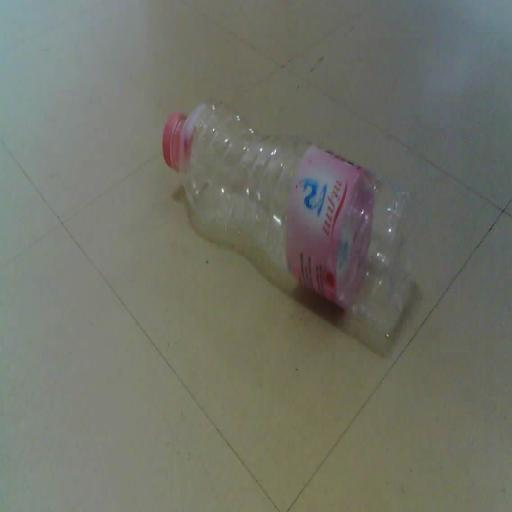bottle: (163, 100, 412, 349)
